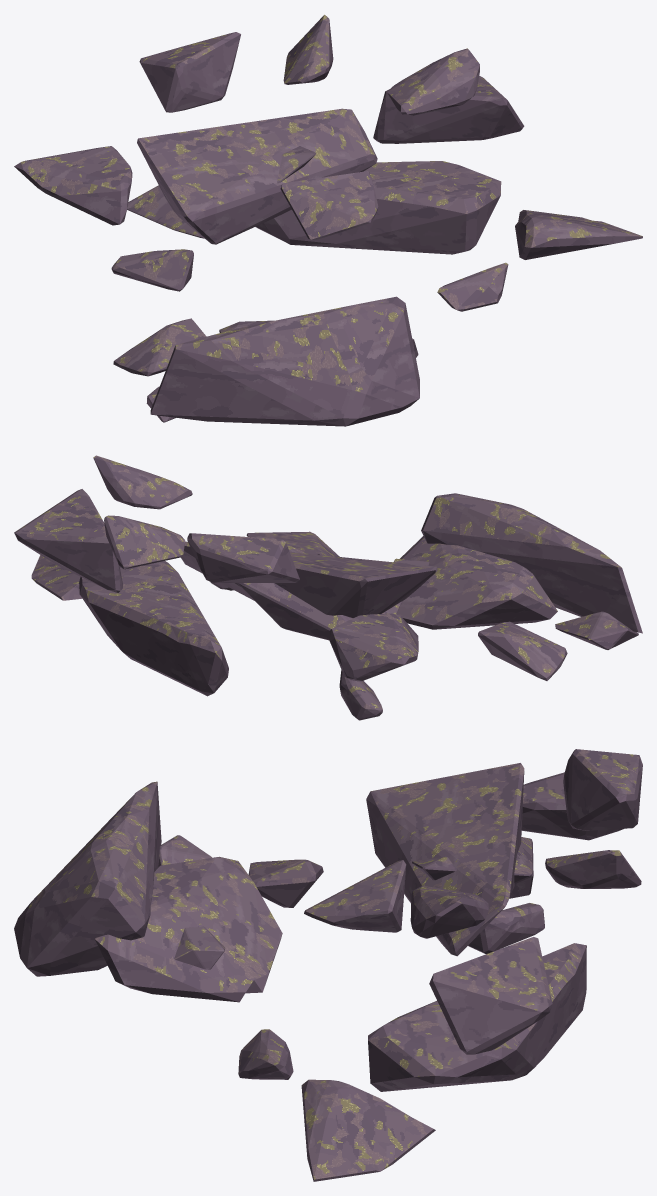
Rendered from P02_Rubble_B.fbx.
The picture shows the model from 3 angles, top to bottom: view 1: azimuth 30°, elevation 25°; view 2: azimuth 150°, elevation 25°; view 3: azimuth 270°, elevation 25°; orthographic projection. The views are drawn at different scales.
Parts seen in each view (by area): view 1: P02B_5, P02B_9, P02B_4, P02B_11, P02B_12, P02B_15, P02B_13, P02B_14, P02B_1, P02B_7, P02B_0, P02B_16 (+2 smaller); view 2: P02B_5, P02B_4, P02B_6, P02B_9, P02B_12, P02B_11, P02B_15, P02B_16, P02B_0, P02B_10, P02B_14, P02B_3 (+3 smaller); view 3: P02B_9, P02B_6, P02B_5, P02B_4, P02B_12, P02B_1, P02B_15, P02B_13, P02B_14, P02B_16, P02B_11, P02B_0 (+5 smaller).
Part boxes in pixels (x1=…): P02B_5: x1=150, y1=296, x2=419, y2=426; P02B_9: x1=137, y1=108, x2=377, y2=244; P02B_4: x1=255, y1=161, x2=501, y2=254; P02B_11: x1=14, y1=146, x2=132, y2=225; P02B_12: x1=373, y1=76, x2=524, y2=143; P02B_15: x1=139, y1=32, x2=240, y2=112; P02B_13: x1=280, y1=171, x2=378, y2=239; P02B_14: x1=387, y1=48, x2=479, y2=115; P02B_1: x1=515, y1=210, x2=642, y2=259; P02B_7: x1=111, y1=249, x2=193, y2=291; P02B_0: x1=113, y1=318, x2=206, y2=376; P02B_16: x1=283, y1=14, x2=333, y2=84; P02B_5: x1=421, y1=493, x2=642, y2=633; P02B_4: x1=79, y1=561, x2=228, y2=696; P02B_6: x1=396, y1=536, x2=557, y2=629; P02B_9: x1=181, y1=541, x2=436, y2=617; P02B_12: x1=14, y1=489, x2=122, y2=592; P02B_11: x1=329, y1=613, x2=418, y2=681; P02B_15: x1=187, y1=533, x2=299, y2=582; P02B_16: x1=104, y1=515, x2=185, y2=569; P02B_0: x1=478, y1=621, x2=567, y2=680; P02B_10: x1=237, y1=536, x2=401, y2=640; P02B_14: x1=93, y1=455, x2=192, y2=509; P02B_3: x1=555, y1=611, x2=638, y2=649; P02B_9: x1=366, y1=763, x2=524, y2=956; P02B_6: x1=95, y1=856, x2=282, y2=1002; P02B_5: x1=14, y1=781, x2=161, y2=976; P02B_4: x1=368, y1=943, x2=586, y2=1091; P02B_12: x1=429, y1=937, x2=552, y2=1054; P02B_1: x1=301, y1=1079, x2=435, y2=1181; P02B_15: x1=563, y1=749, x2=642, y2=830; P02B_13: x1=304, y1=860, x2=406, y2=932; P02B_14: x1=410, y1=885, x2=488, y2=938; P02B_16: x1=545, y1=850, x2=641, y2=888; P02B_11: x1=521, y1=772, x2=623, y2=840; P02B_0: x1=248, y1=859, x2=323, y2=907.
Size of the model in its own units: 1.23 by 0.3871 by 0.9919.
